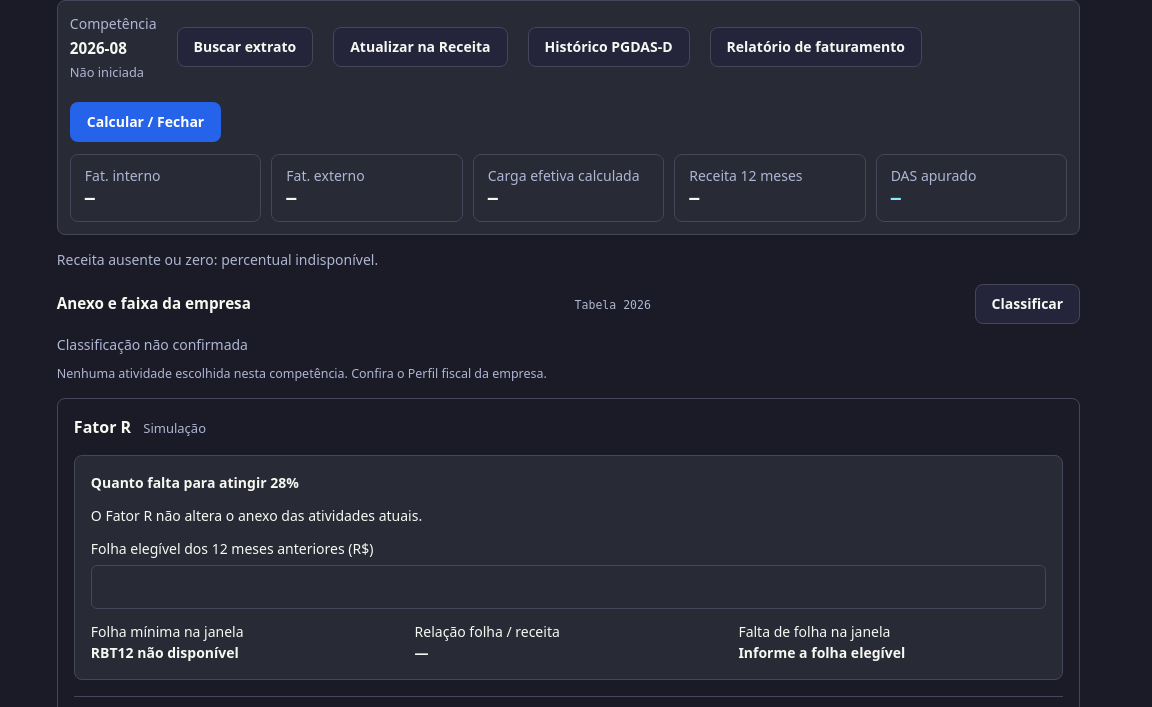
Test: relatório histórico abre a classificação e é regenerado após classificar a competência
The image size is (1152, 707).
Click the button "Classificar" at (1027, 304), box left=975, top=284, right=1080, bottom=324
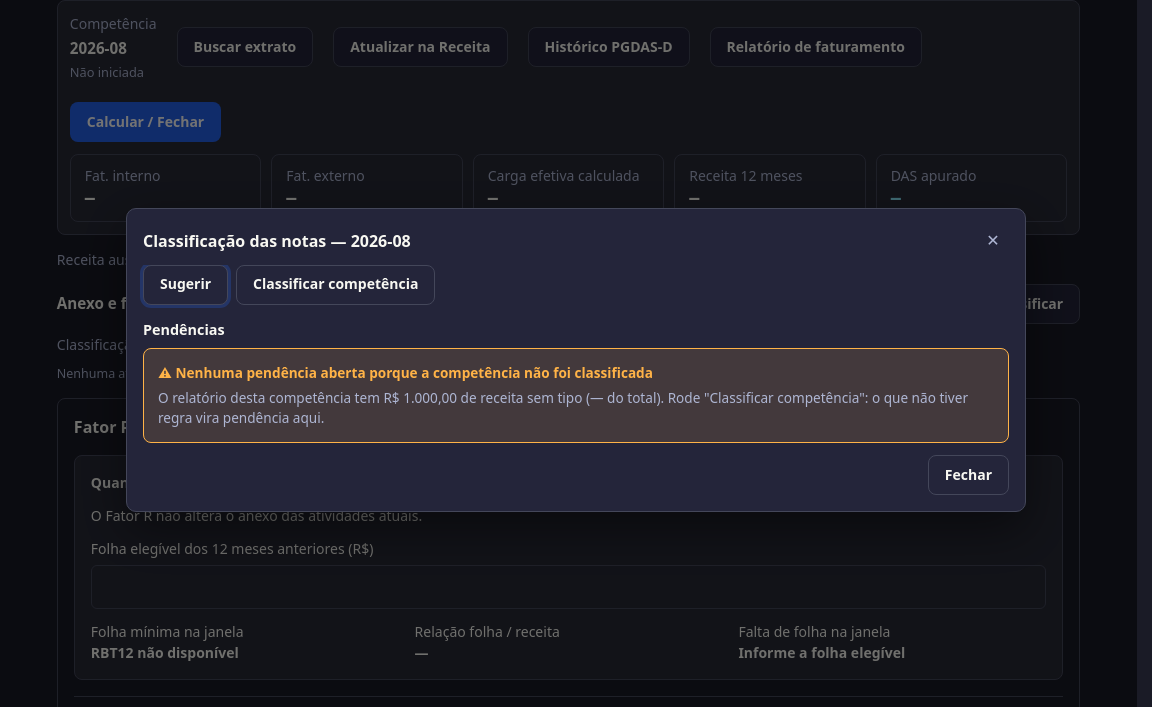
Result: the text "Classificação das notas — 2026-08" is shown at left=143, top=229, right=411, bottom=253
Click the button "Classificar competência" at (336, 285), box left=236, top=265, right=435, bottom=305
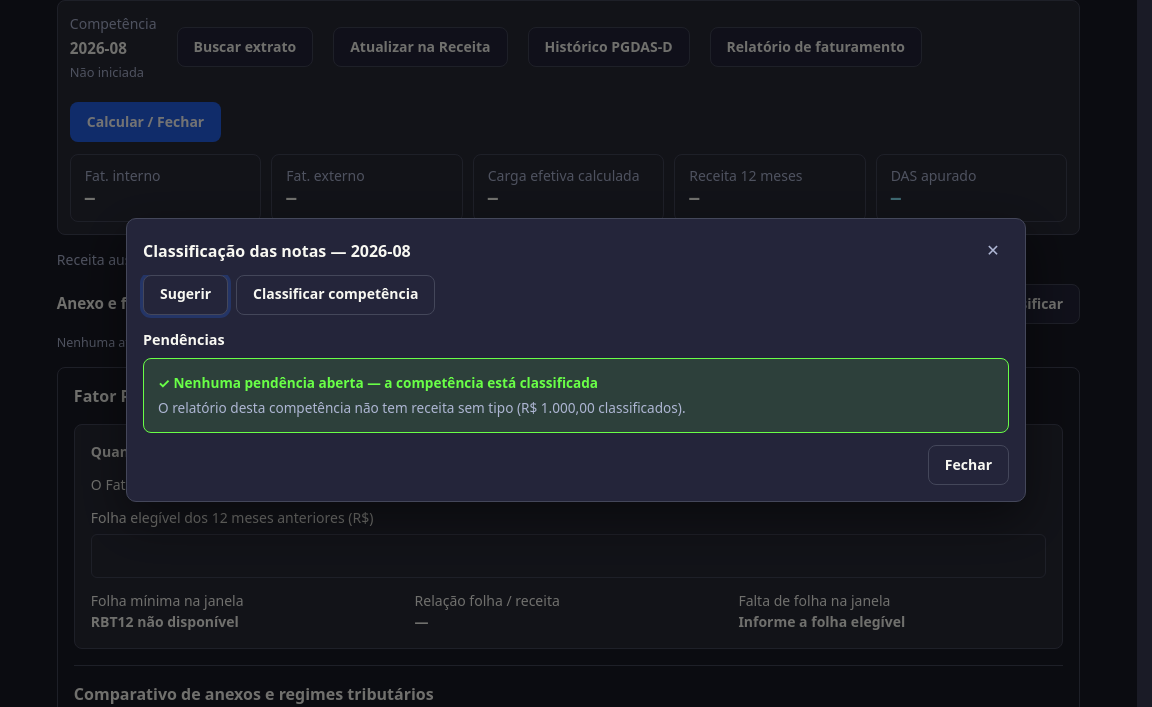
Click the button named "Fechar" at (993, 251), box left=977, top=235, right=1009, bottom=267
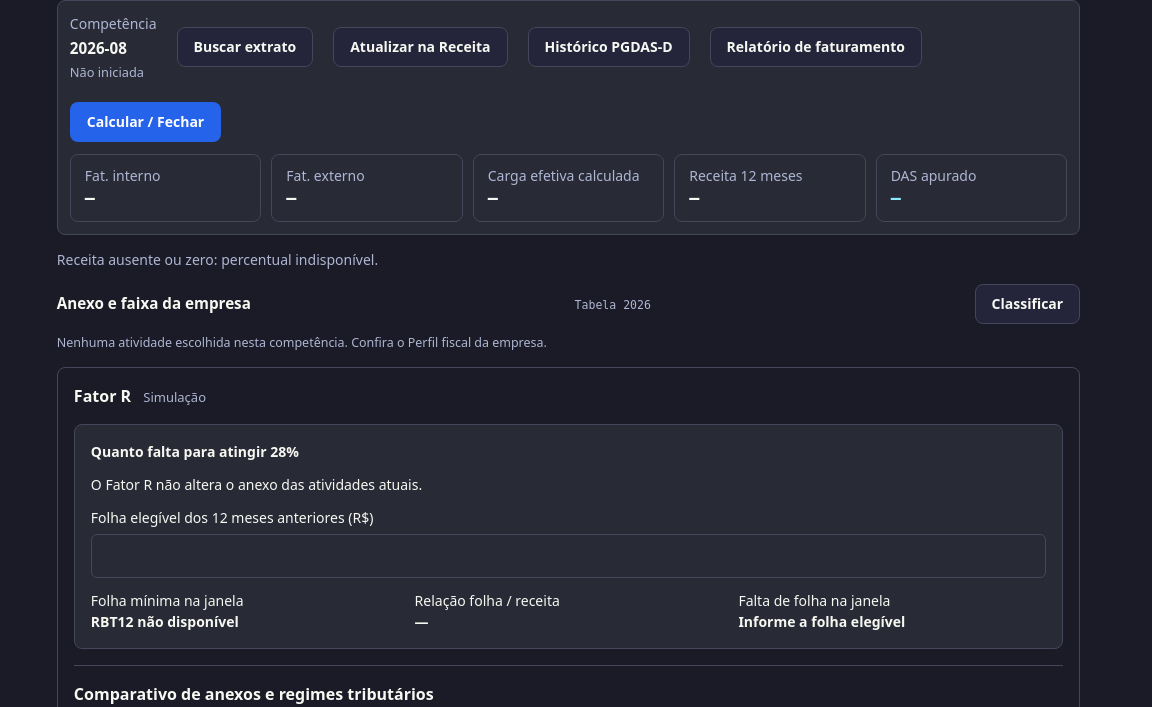
Click the button "Relatório de faturamento" at (816, 48), box left=710, top=28, right=922, bottom=68
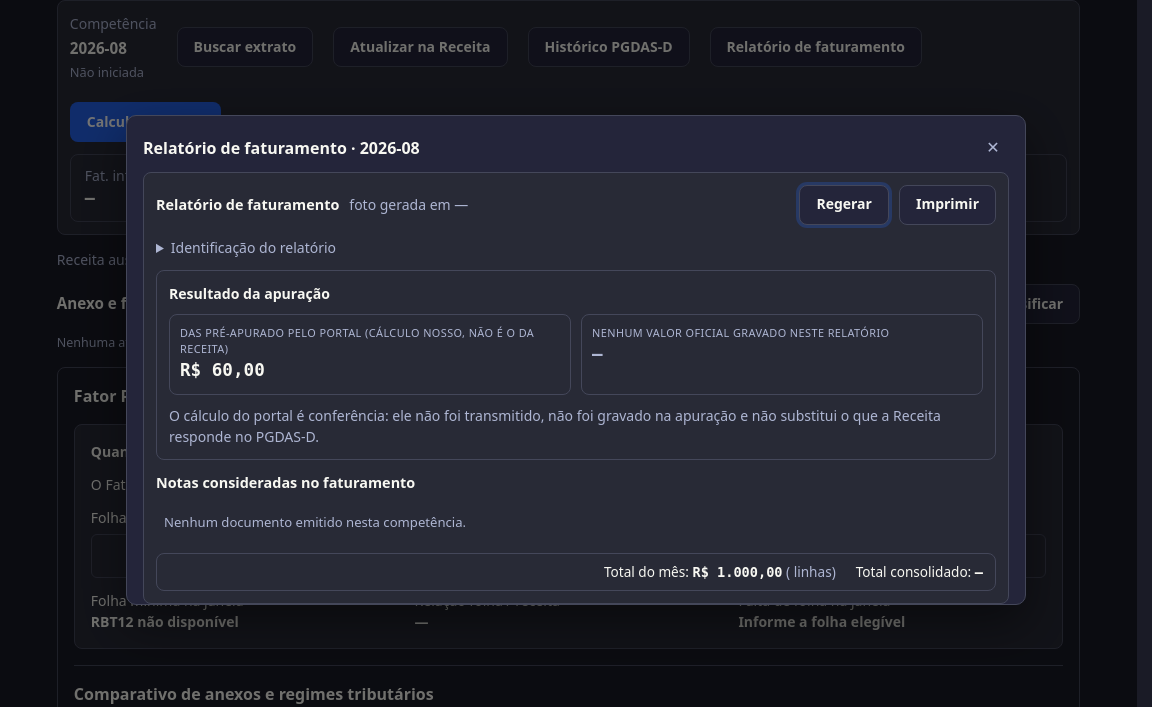
Result: the text "R$ 60,00" is shown at left=180, top=360, right=265, bottom=380
